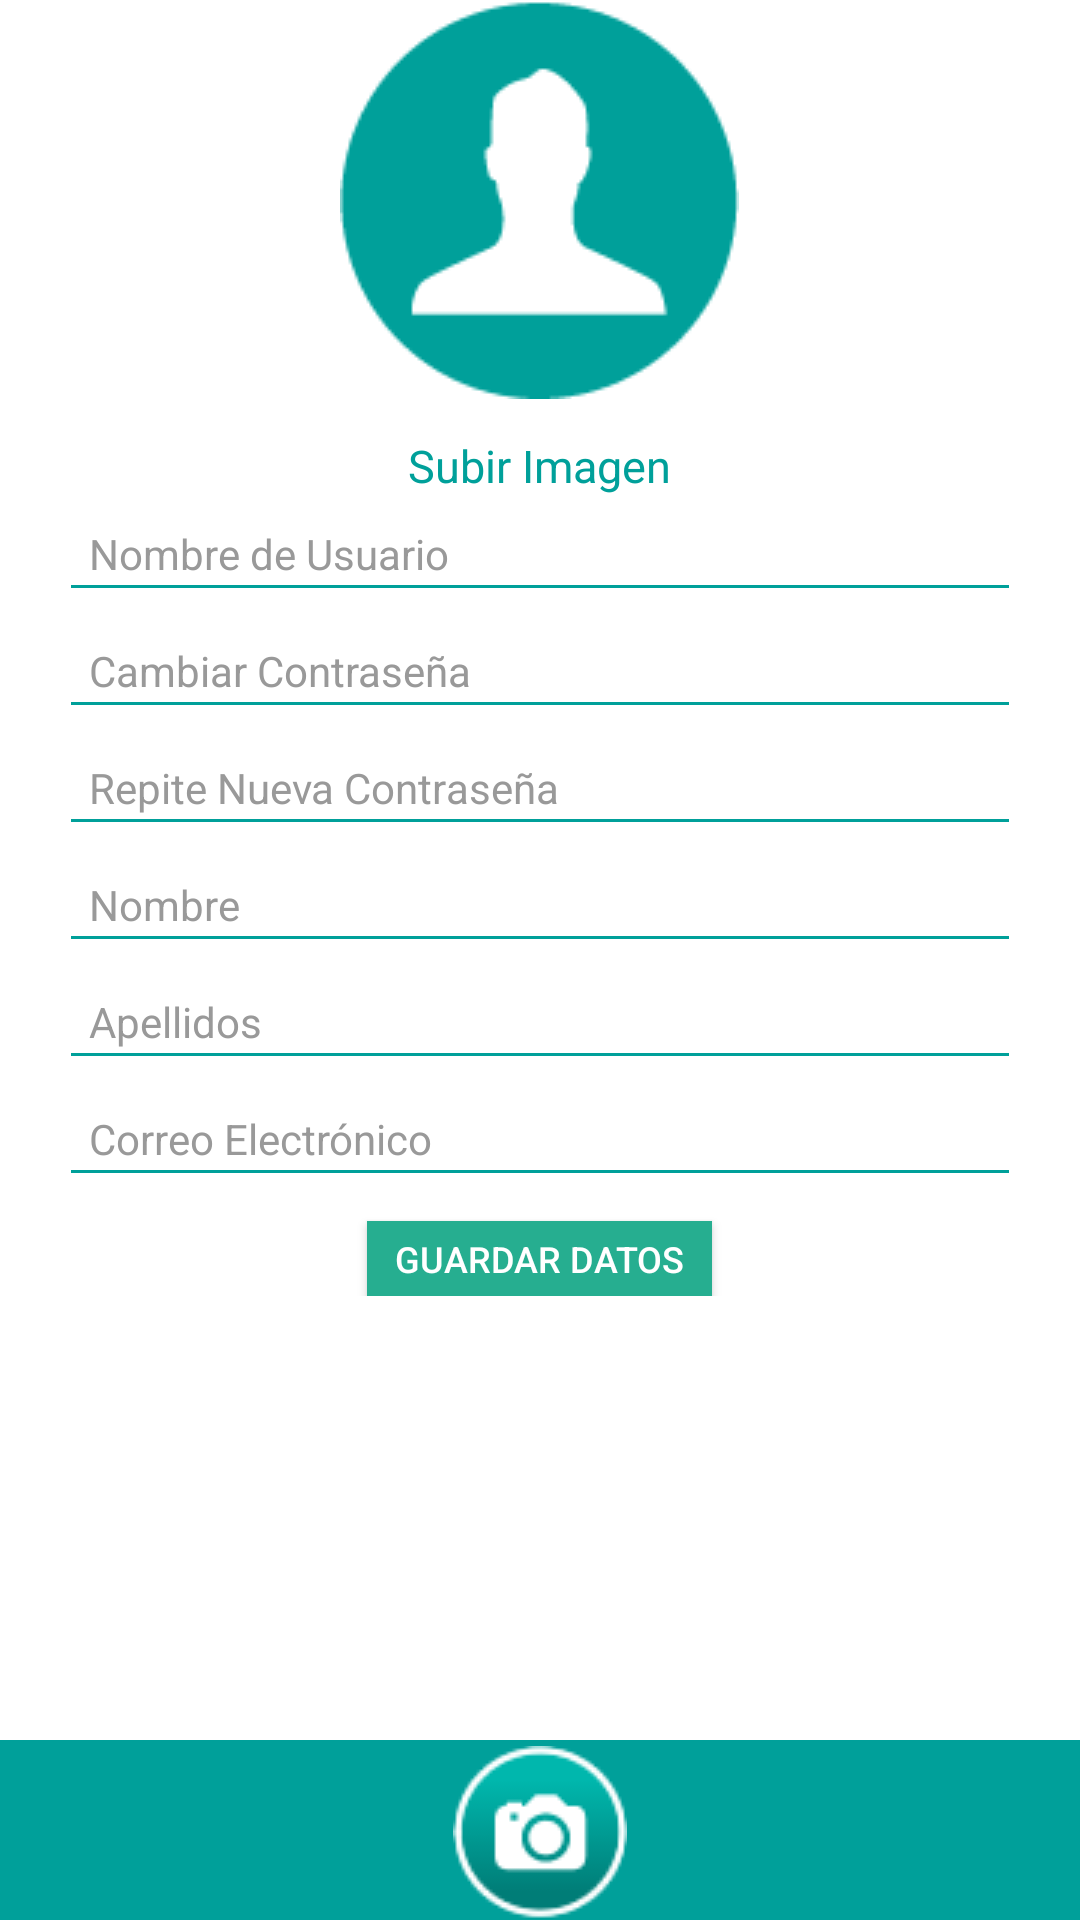

Point at icon controls on the screen. Image size 1080*1920, points as [x,y].
camara bt: [540,1832]
